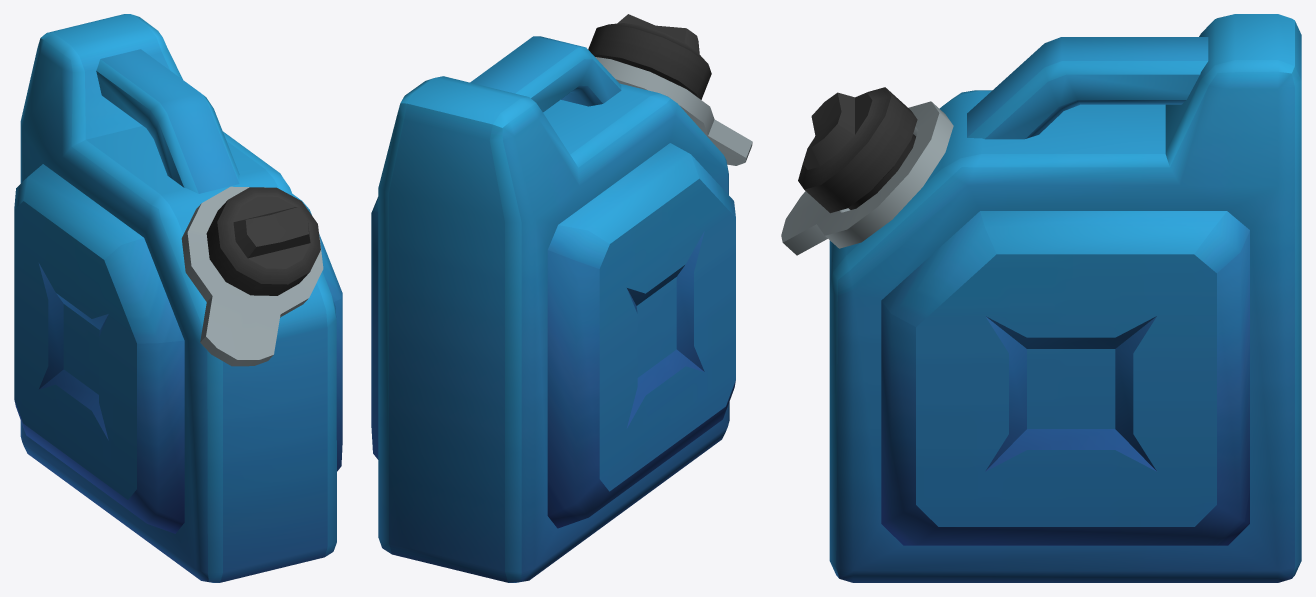
The model's file is fuel_c_jerrycan.glb.
3 views of the same model, side by side, from view 1: azimuth 30°, elevation 25°; view 2: azimuth 150°, elevation 25°; view 3: azimuth 270°, elevation 25° (orthographic). The views are drawn at different scales.
Visible parts, largest first — view 1: Fuel_C_Jerrycan; view 2: Fuel_C_Jerrycan; view 3: Fuel_C_Jerrycan.
Part boxes in pixels (x1,y1,x2,y2): Fuel_C_Jerrycan: (14,14,342,582); Fuel_C_Jerrycan: (371,14,752,582); Fuel_C_Jerrycan: (781,14,1301,582).
Bounding box in the file's own units: 0.4001 × 0.78 × 0.7165.
1 material, 1 textured.
